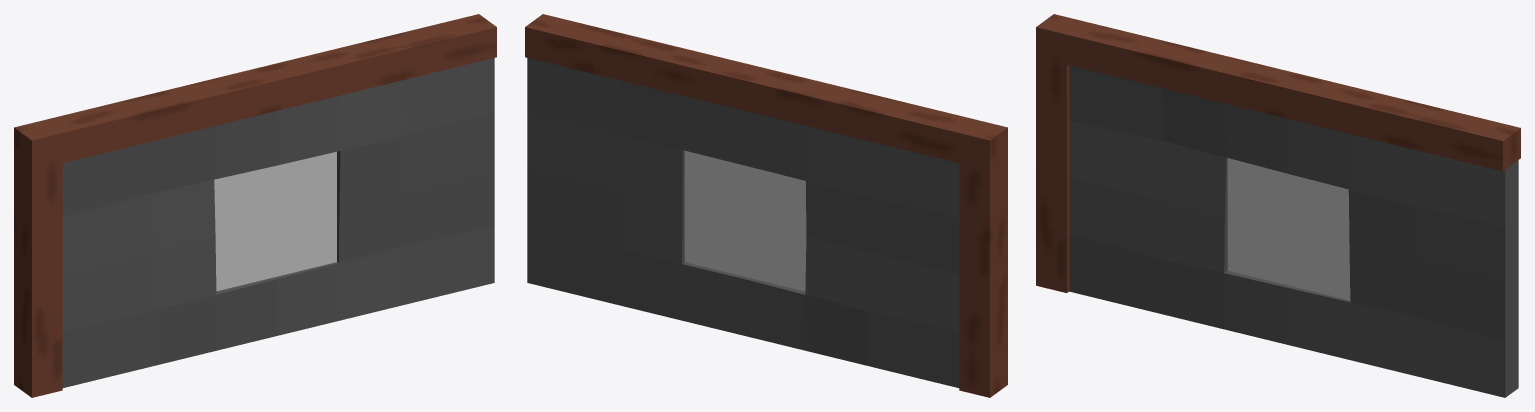
Rendered from StoneWallC.fbx.
3 views of the same model, side by side, from view 1: azimuth 30°, elevation 25°; view 2: azimuth 150°, elevation 25°; view 3: azimuth 330°, elevation 25° (orthographic).
Visible parts, largest first — view 1: Cube; view 2: Cube; view 3: Cube.
Boxes of the visible parts, x1,y1,x2,y2 form: Cube: (14, 14, 496, 397); Cube: (525, 14, 1007, 397); Cube: (1036, 14, 1520, 397).
Bounding box in the file's own units: 1499 × 793 × 100.
